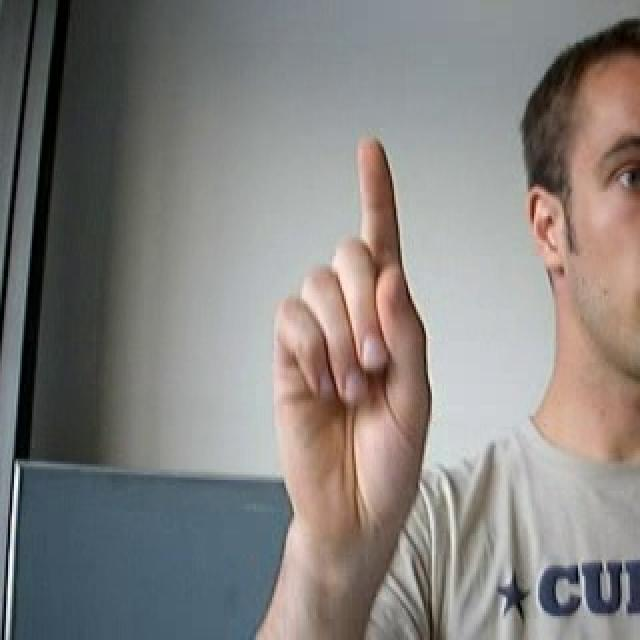D: (223, 119, 464, 566)
